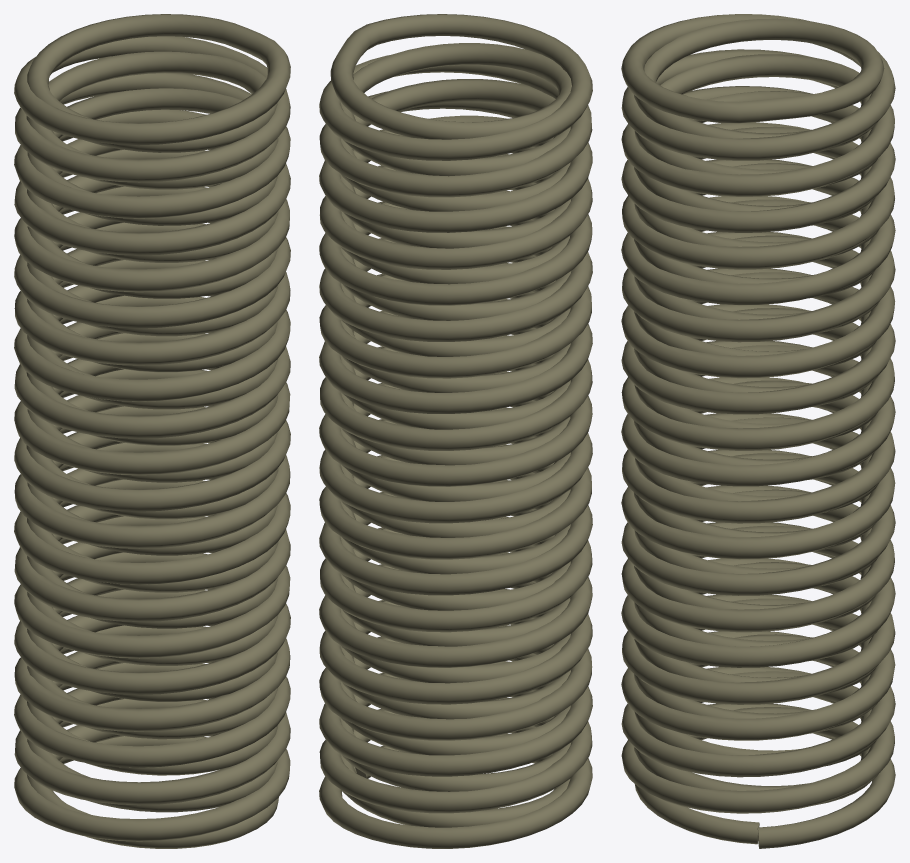
The model's file is shugancaoshen1.FBX.
The picture shows the model from 3 angles, left to right: view 1: azimuth 30°, elevation 25°; view 2: azimuth 150°, elevation 25°; view 3: azimuth 270°, elevation 25°; orthographic projection.
Parts seen in each view (by area): view 1: shugancaoshen1; view 2: shugancaoshen1; view 3: shugancaoshen1.
Boxes of the visible parts, x1=… form: shugancaoshen1: x1=14, y1=14, x2=290, y2=848; shugancaoshen1: x1=319, y1=14, x2=592, y2=848; shugancaoshen1: x1=621, y1=14, x2=895, y2=848.
Size of the model in its own units: 9.45 by 28.29 by 9.45.
